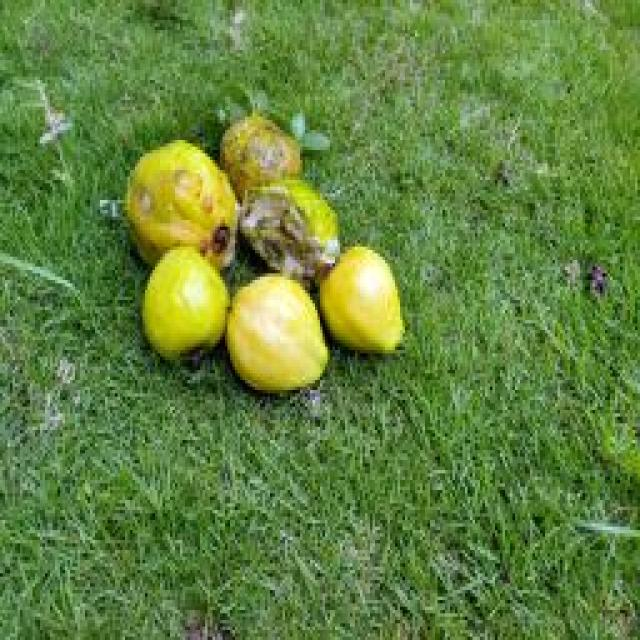Organik: (206, 272, 332, 398), (115, 136, 238, 264), (231, 160, 343, 278), (308, 234, 416, 356), (134, 243, 233, 365), (215, 98, 300, 196)
